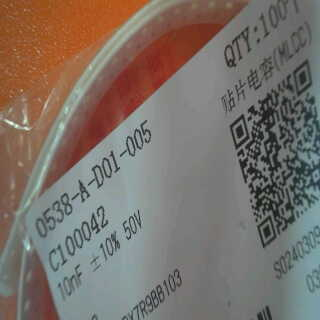10nF: (52, 264, 82, 296)
